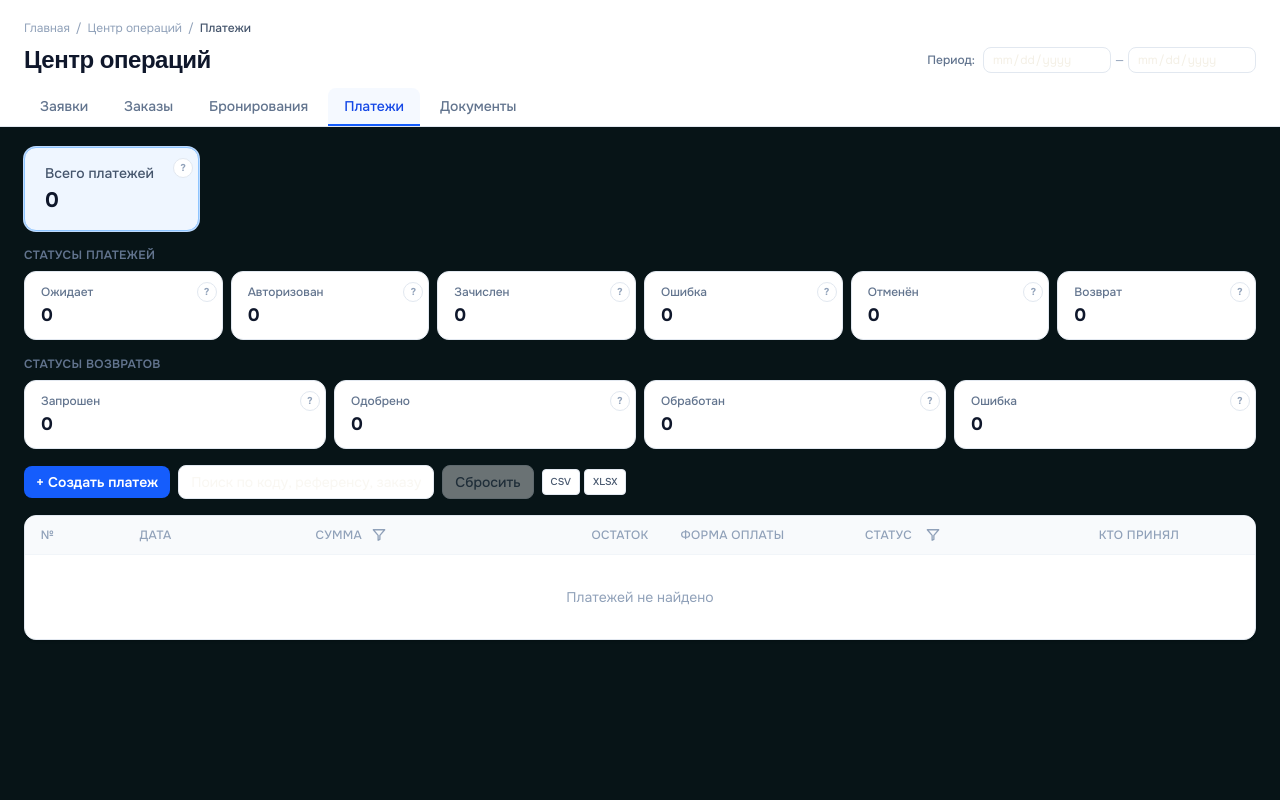
AC-3/AC-4/AC-8/AC-9 — form → POST → refresh registry › 403 → «Нет прав» в форме
Click the button with test id "payments-create-button": (97, 482) x1=24 y1=466 x2=170 y2=498
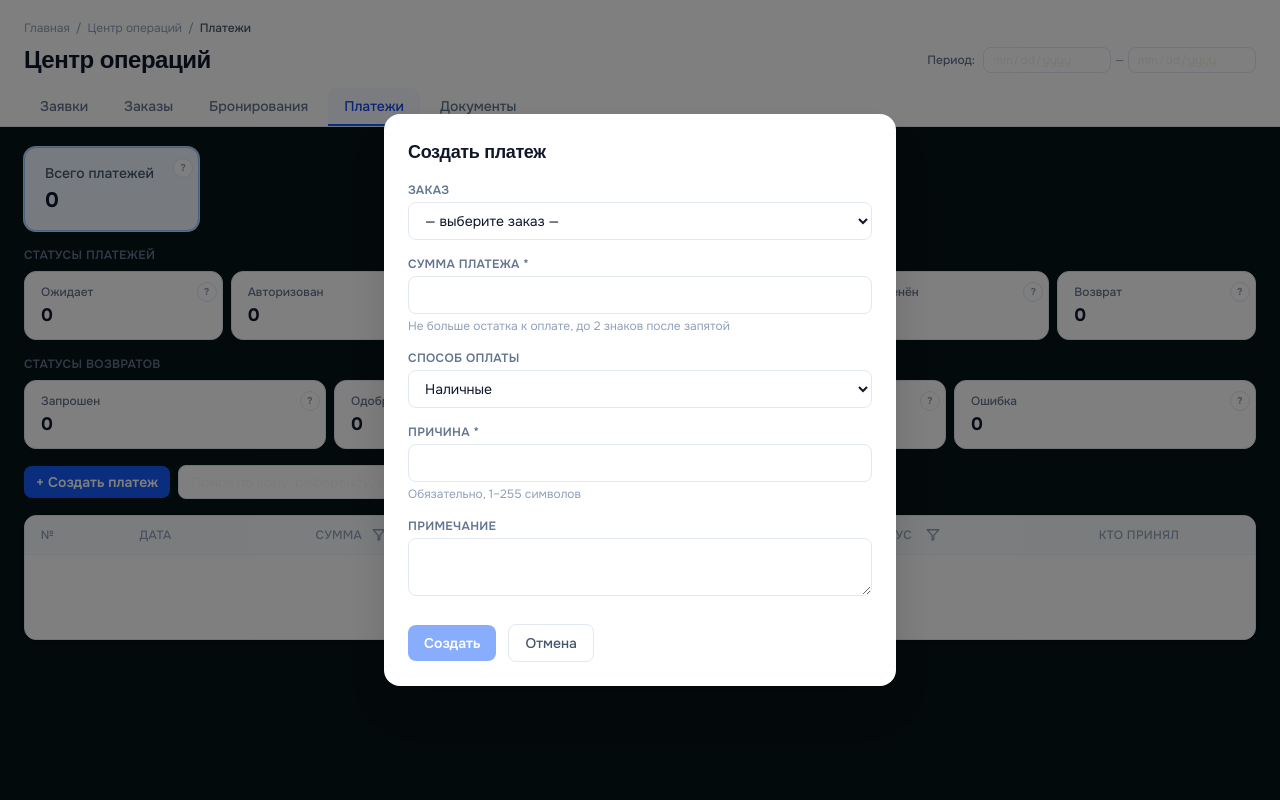
Select "MKT-ORD-0001 · 1 250,00 AZN" in the dropdown with test id "create-payment-order-select": (640, 221) x1=408 y1=202 x2=872 y2=240
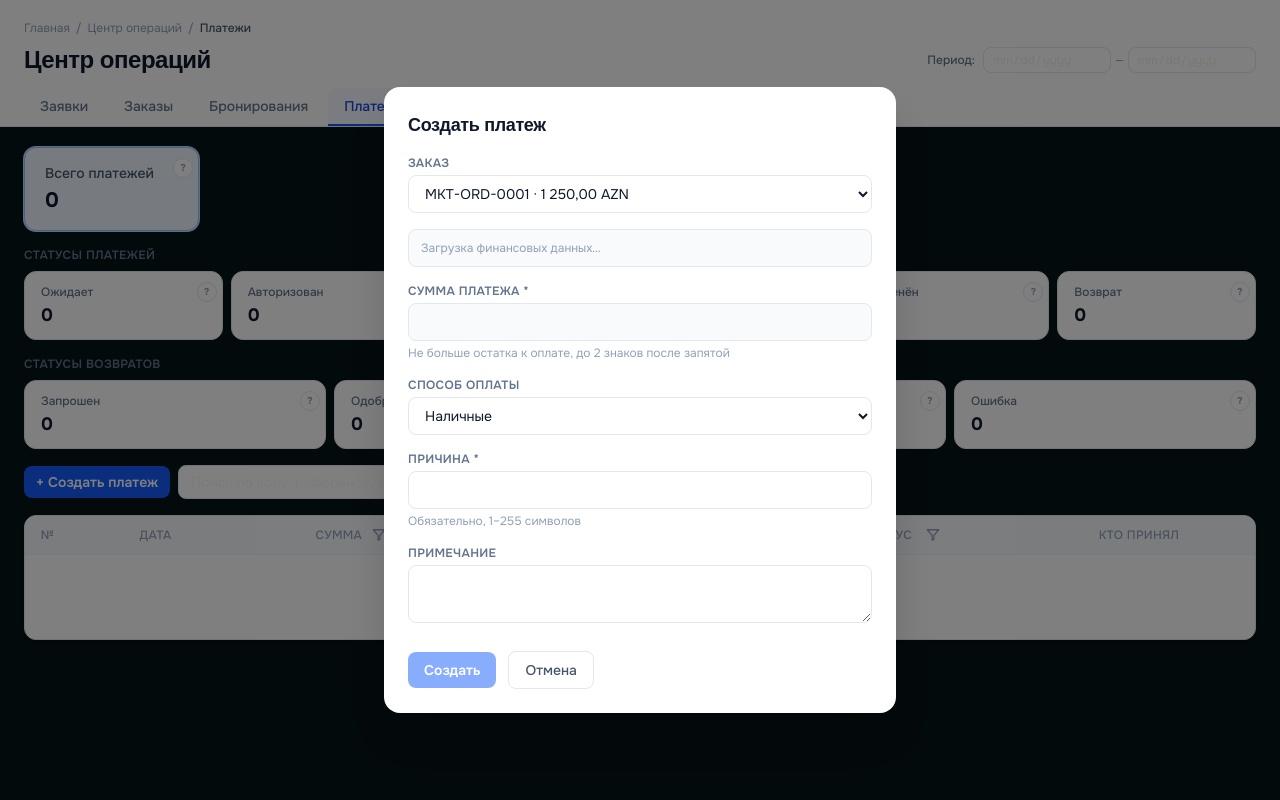
In the field with test id "create-payment-reason": (640, 490) x1=408 y1=471 x2=872 y2=509, type "r"
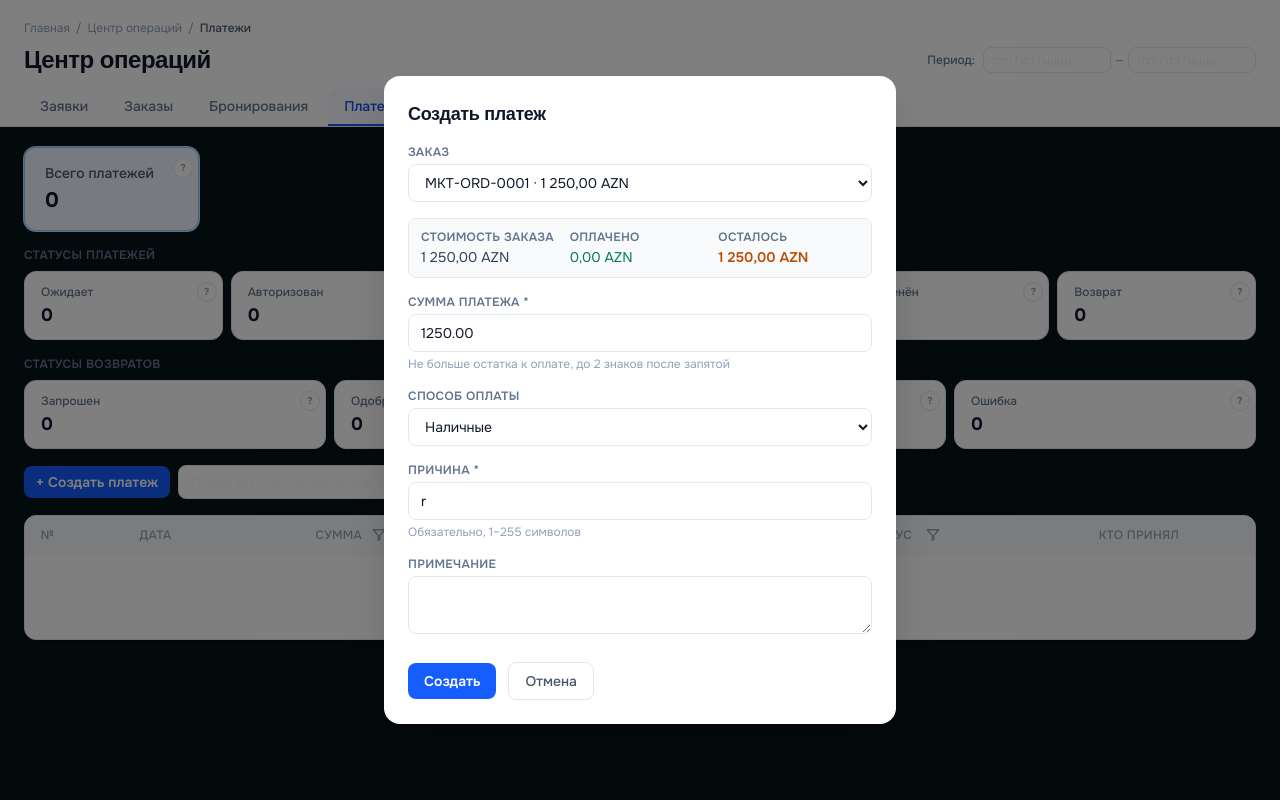
Expected: the button with test id "create-payment-submit" is enabled
Click the button with test id "create-payment-submit": (452, 681) x1=408 y1=663 x2=496 y2=699
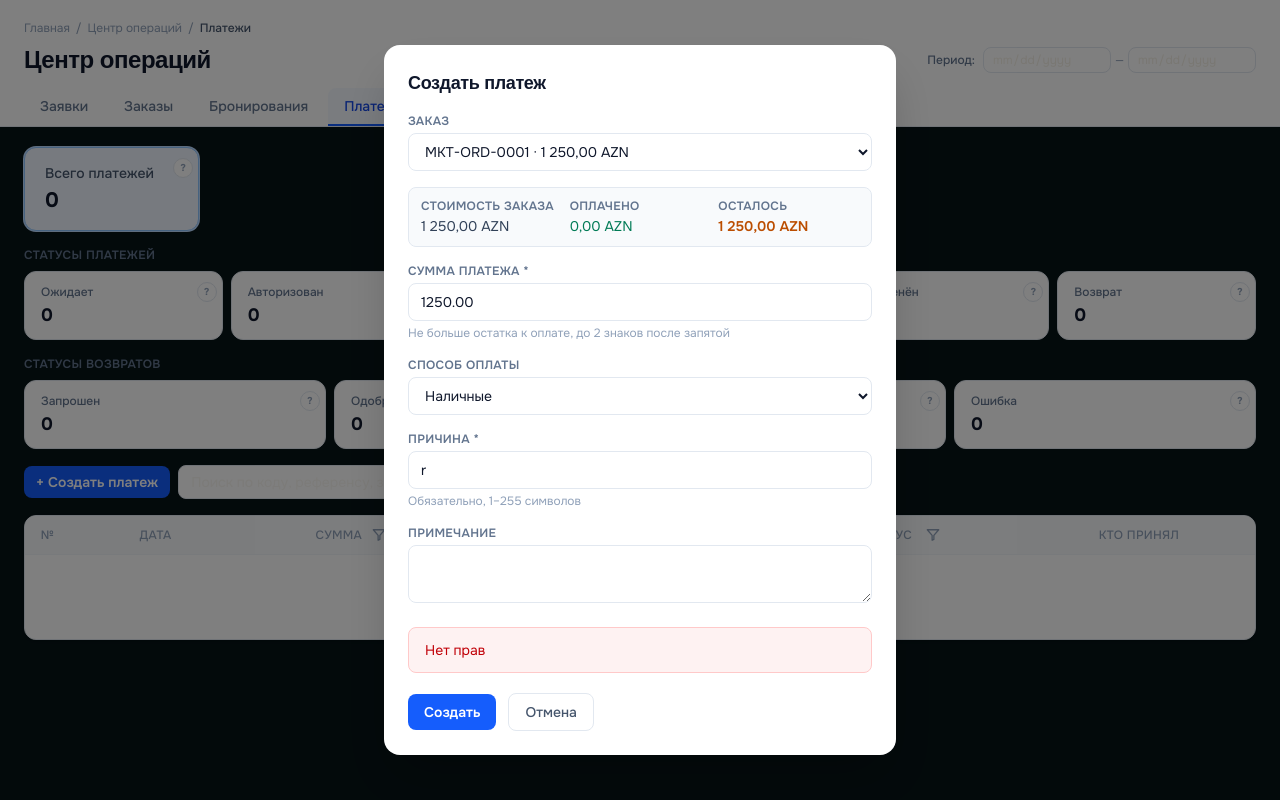
Expected: the message reads "Нет прав", x1=425 y1=641 x2=485 y2=659
